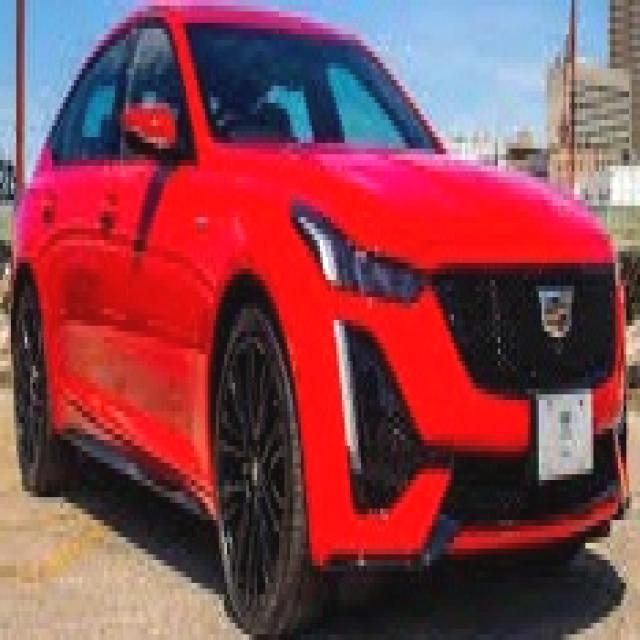red: (8, 2, 632, 556)
